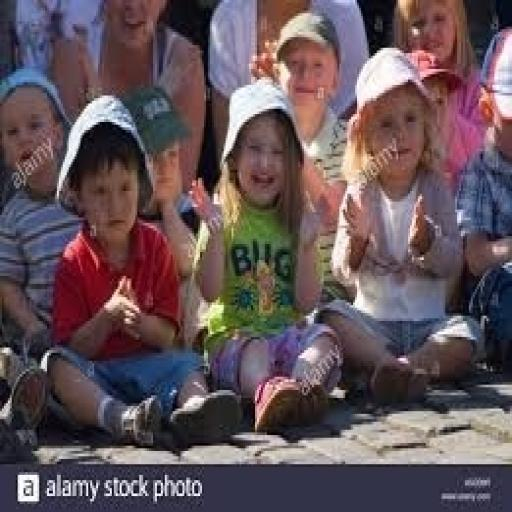clapping: (176, 61, 382, 433), (28, 121, 248, 459), (322, 45, 484, 409)
